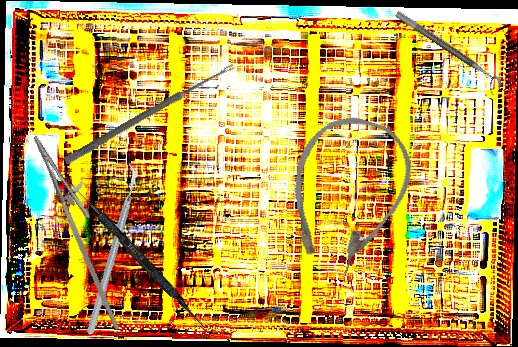Cannula: (267, 103, 425, 287)
Chopper: (28, 159, 194, 337)
Fixation Ring: (388, 10, 505, 96)
Needle Holder: (11, 127, 155, 331)
Spatula Surgical: (59, 173, 211, 331)
Surgical Spoon: (63, 61, 236, 166)
